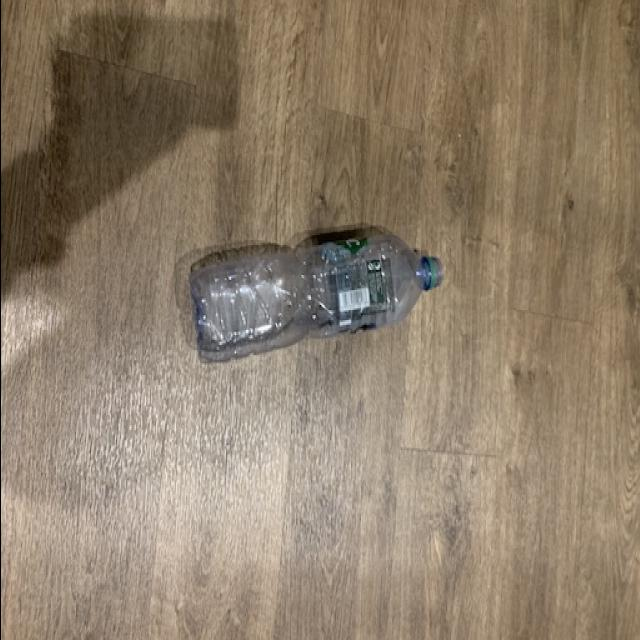litter: (189, 228, 445, 352)
